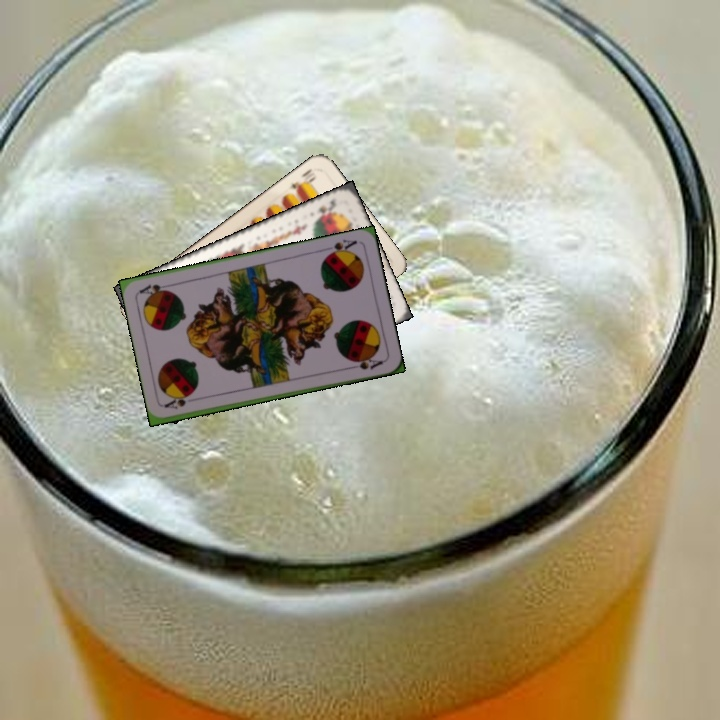E10: (287, 164, 319, 196)
SA: (322, 235, 360, 260), (161, 393, 191, 412)
SK: (311, 195, 339, 223)
